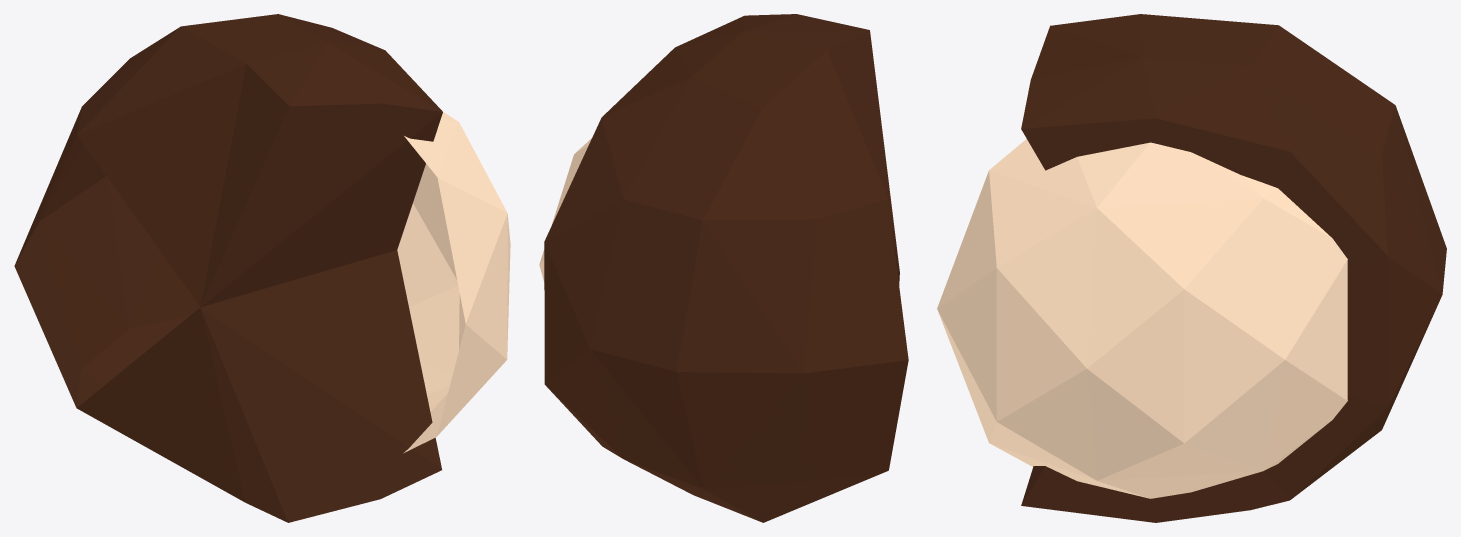
The model's file is hair32.glb.
3 renders of one model, left to right at view 1: azimuth 30°, elevation 25°; view 2: azimuth 150°, elevation 25°; view 3: azimuth 270°, elevation 25°, orthographic. The views are drawn at different scales.
Parts seen in each view (by area): view 1: tomodachi-2026-03-17-12-12-30-196, tomodachi-2026-03-17-12-12-30-196.008; view 2: tomodachi-2026-03-17-12-12-30-196, tomodachi-2026-03-17-12-12-30-196.008; view 3: tomodachi-2026-03-17-12-12-30-196.008, tomodachi-2026-03-17-12-12-30-196.
Part boxes in pixels (left/top/right/bottom): tomodachi-2026-03-17-12-12-30-196: left=14, top=14, right=442, bottom=522; tomodachi-2026-03-17-12-12-30-196.008: left=397, top=112, right=510, bottom=453; tomodachi-2026-03-17-12-12-30-196: left=544, top=14, right=908, bottom=522; tomodachi-2026-03-17-12-12-30-196.008: left=539, top=138, right=591, bottom=282; tomodachi-2026-03-17-12-12-30-196.008: left=937, top=139, right=1347, bottom=498; tomodachi-2026-03-17-12-12-30-196: left=1021, top=14, right=1446, bottom=522.
Size of the model in its own units: 1.12 by 1.19 by 1.18.
2 materials, 2 textured.
